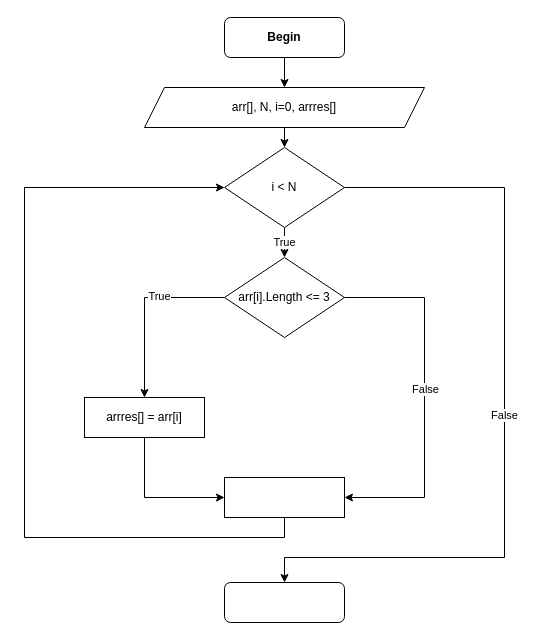
Image size: 535x640. Some labels were removed from this diagram. The shapes that lost their labels are listed below. From the top down, each one's box as (x1, y1, x2, y2) in pixels, then its label:
(224, 476, 344, 518): i = i + 1
(224, 582, 344, 622): End
